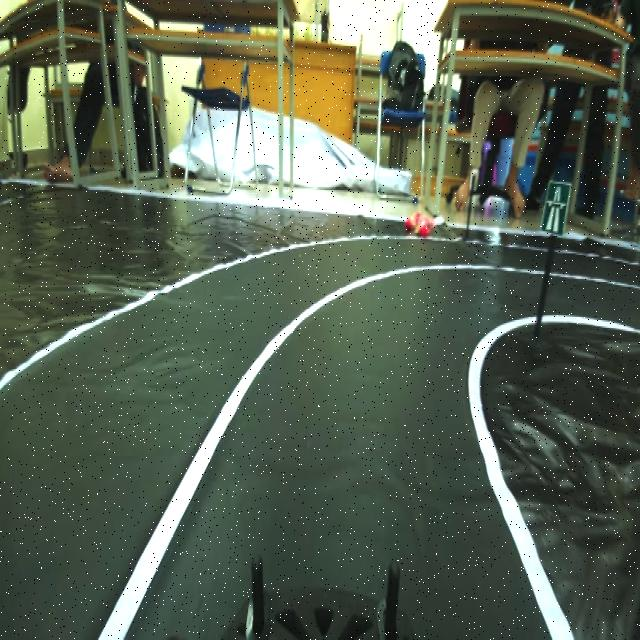highway_entry: (543, 170, 574, 250)
